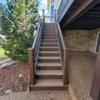stairs: (27, 22, 70, 94)
